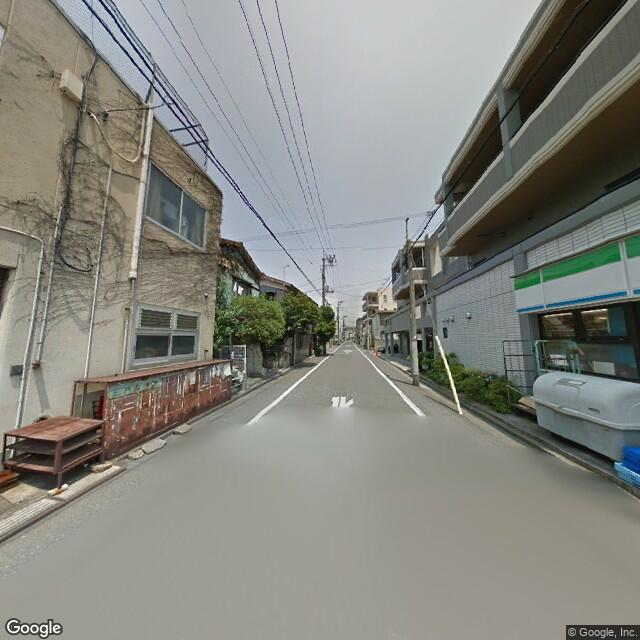family_mart: (514, 230, 639, 319)
